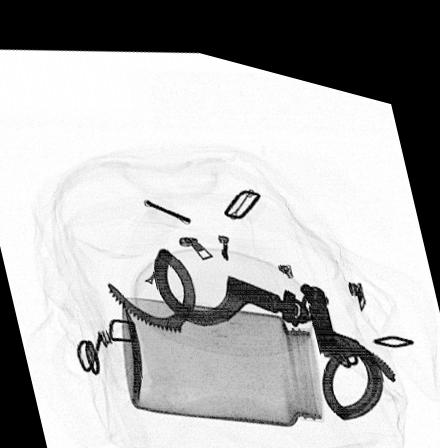HandCuffs: (107, 238, 396, 402)
